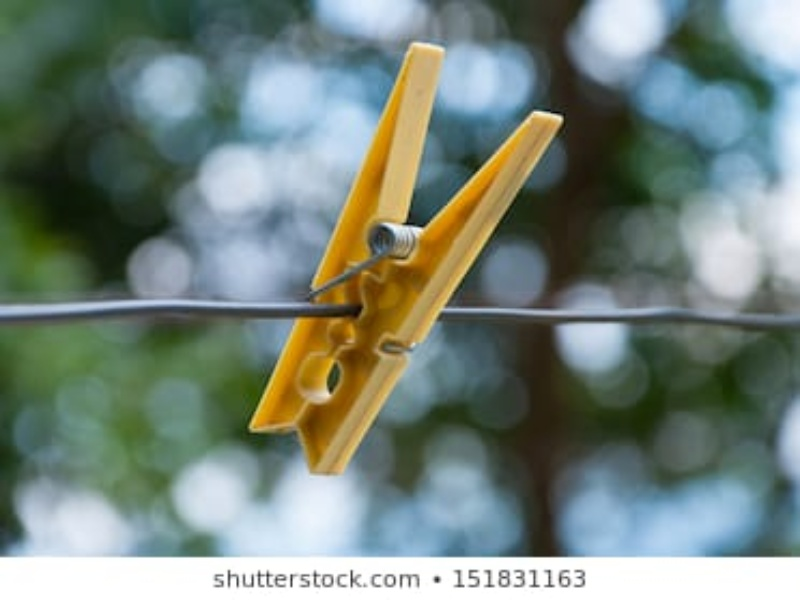plastic-peg: (245, 37, 572, 478)
